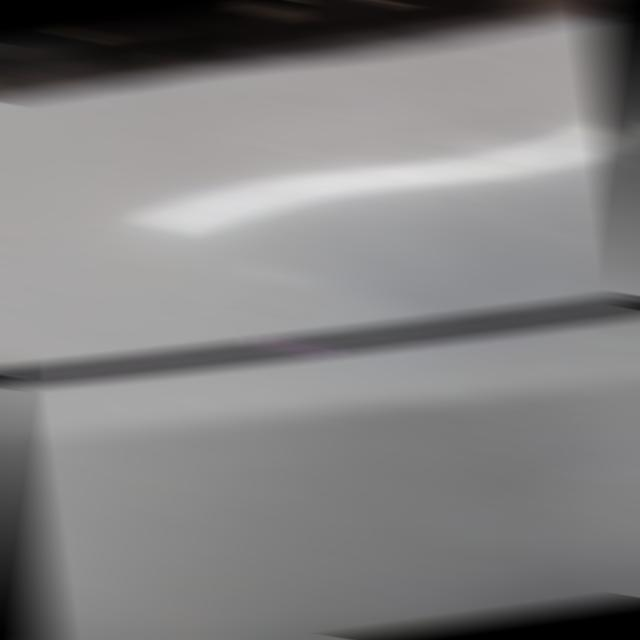pink: (263, 337, 322, 356)
